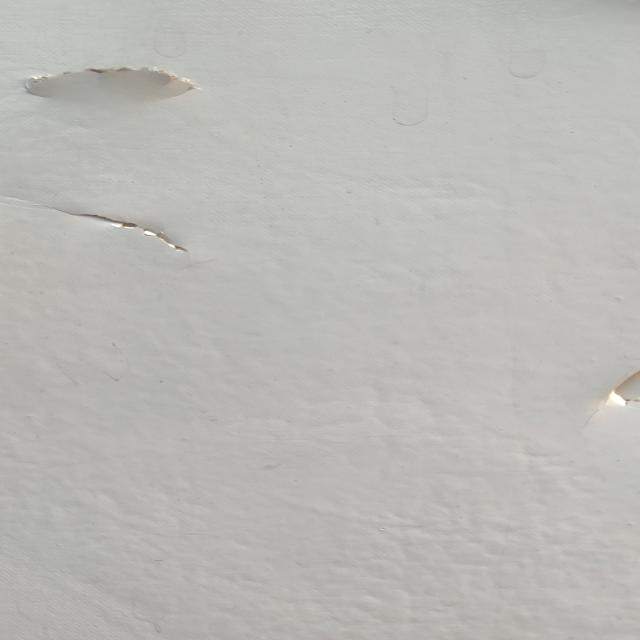Scratches: (36, 195, 220, 260), (24, 59, 212, 108), (580, 356, 640, 416)
